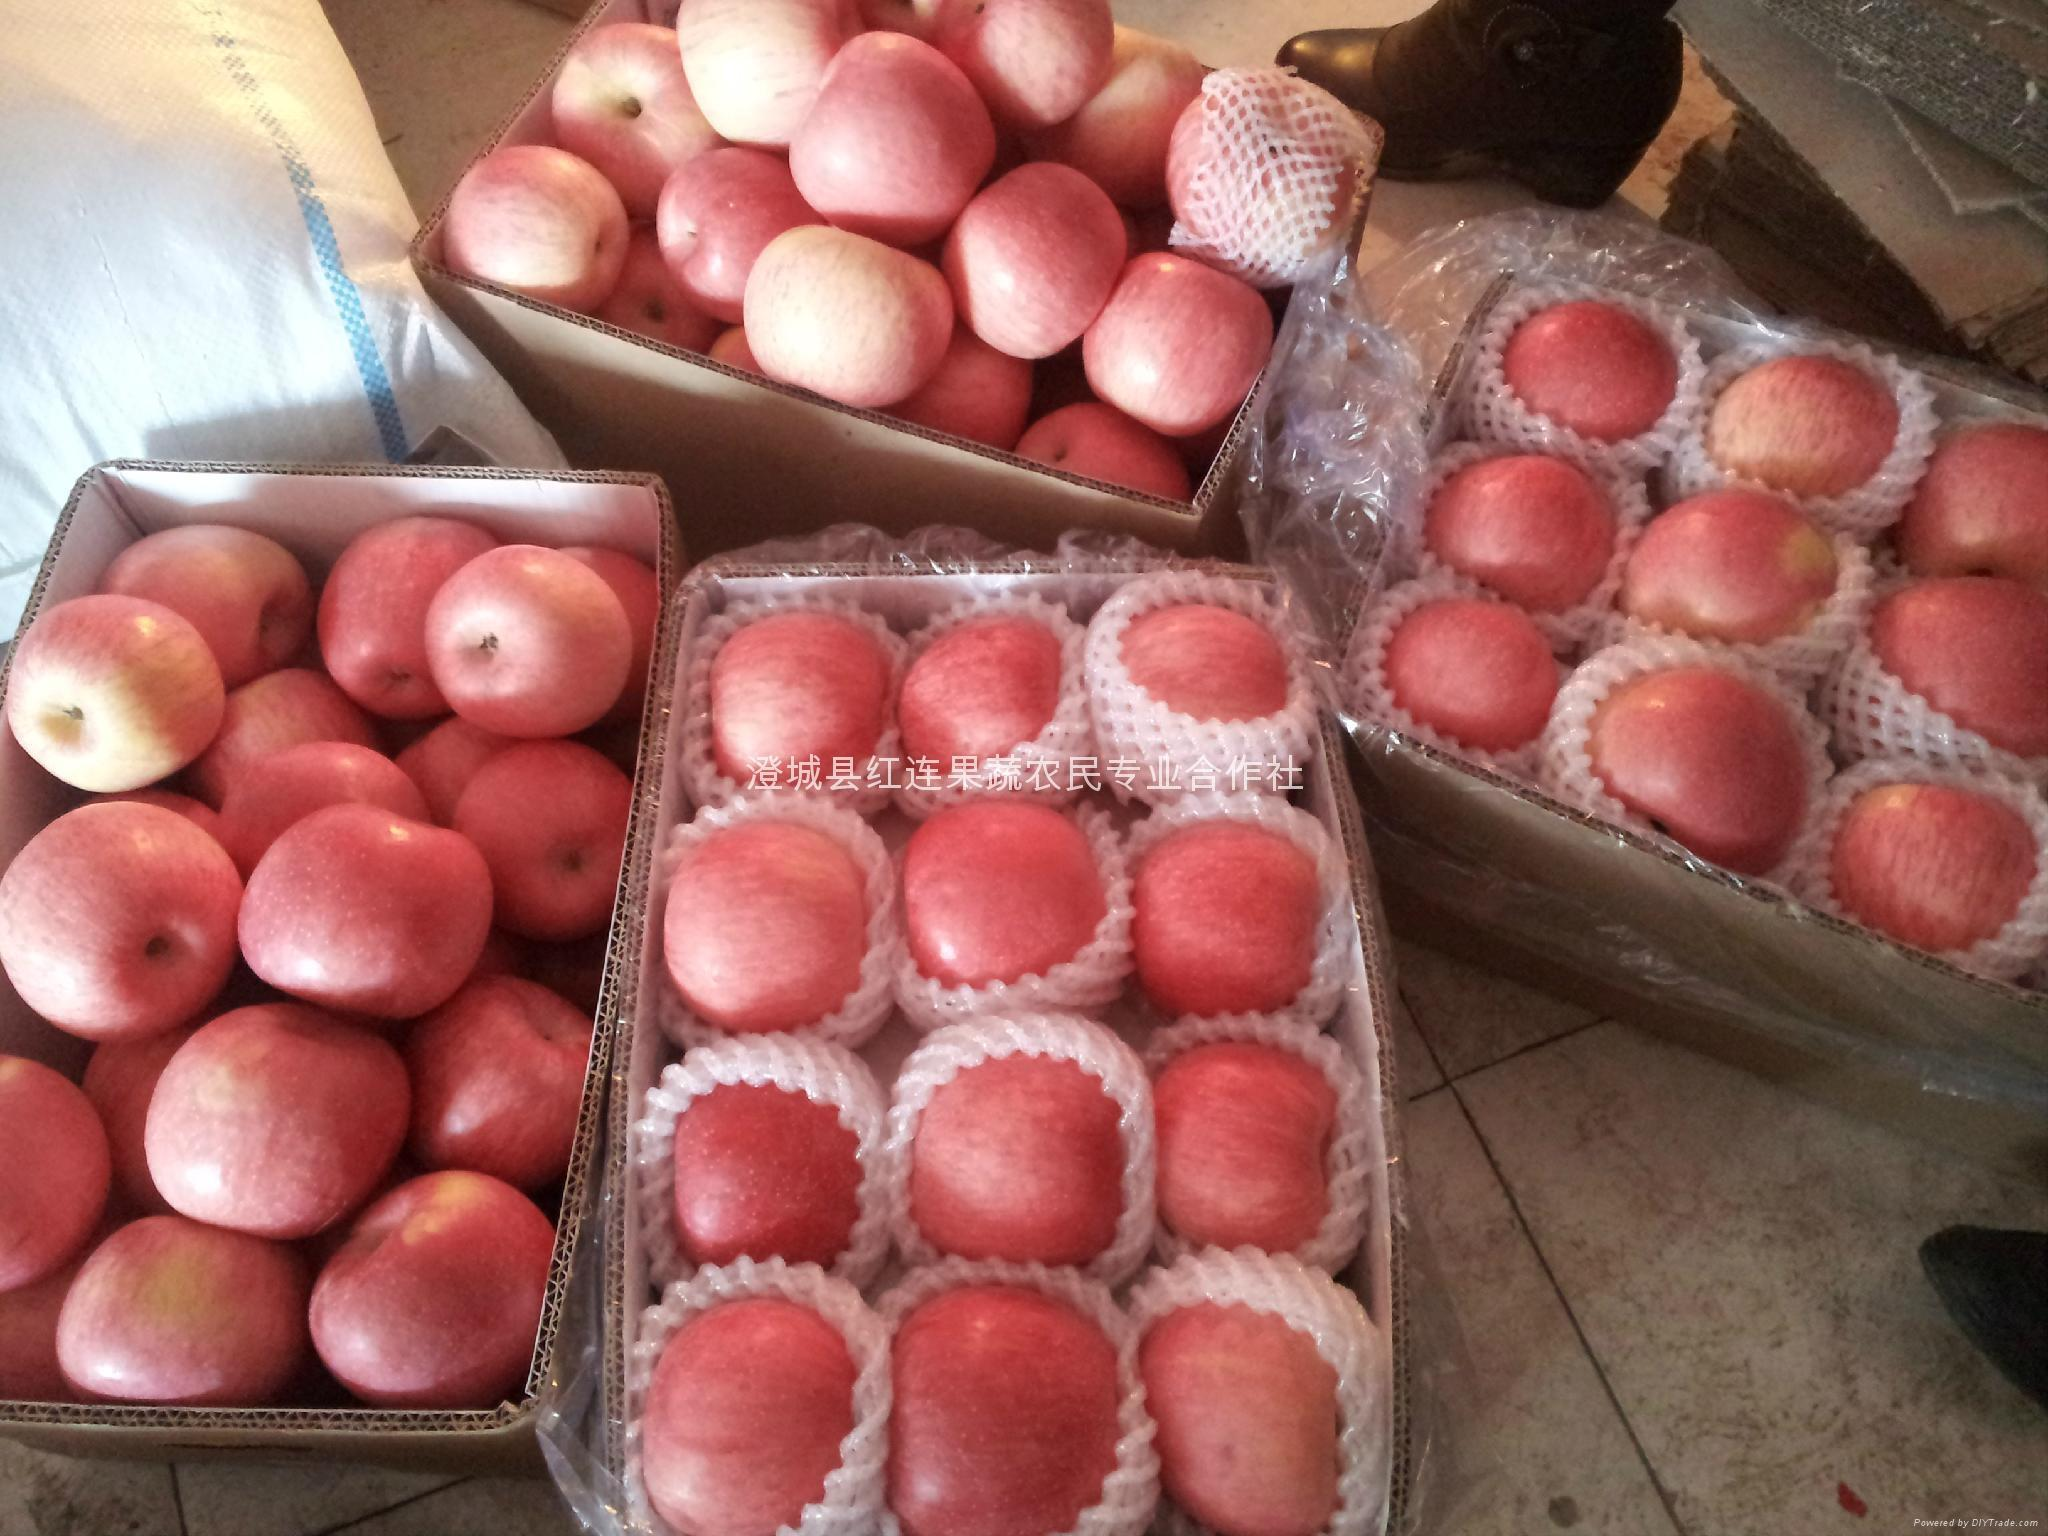apple: (145, 1007, 418, 1241), (300, 1170, 555, 1404), (6, 803, 242, 1046), (240, 805, 492, 1025), (1140, 1297, 1358, 1526), (897, 1296, 1114, 1523), (642, 1299, 860, 1526), (911, 1049, 1129, 1276), (53, 1212, 305, 1402), (2, 595, 227, 795), (423, 537, 635, 745), (663, 1078, 876, 1284), (655, 824, 868, 1029), (792, 31, 992, 239), (742, 219, 956, 413), (1585, 663, 1788, 865), (898, 805, 1109, 986), (1082, 244, 1272, 439), (1134, 816, 1319, 1016), (945, 161, 1127, 363), (1159, 1041, 1330, 1246), (319, 523, 503, 710), (452, 749, 634, 936), (553, 23, 718, 219), (1625, 481, 1842, 628), (1840, 779, 2030, 942), (1877, 573, 2048, 745), (445, 145, 629, 303), (706, 615, 885, 771), (1430, 453, 1609, 605), (671, 2, 858, 144), (930, 2, 1114, 144), (1705, 345, 1895, 481), (897, 607, 1063, 760), (660, 145, 805, 319), (1392, 600, 1550, 745), (1508, 303, 1675, 437), (1122, 599, 1288, 720), (1904, 424, 2048, 560)
